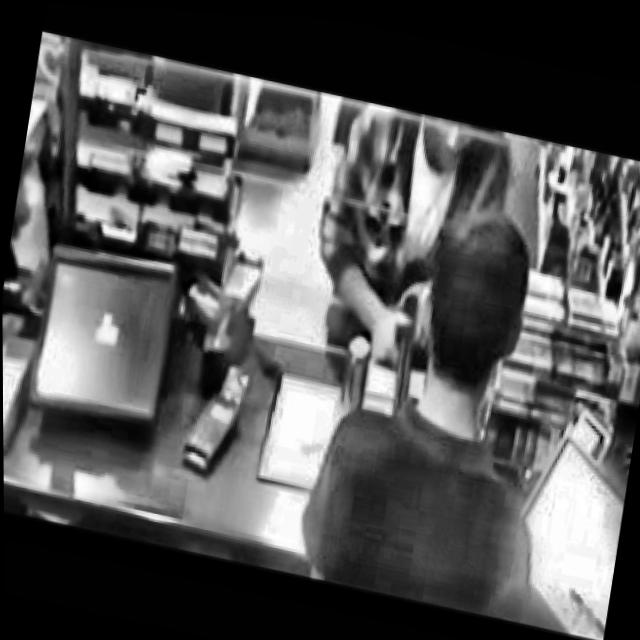robbery: (285, 92, 516, 430)
